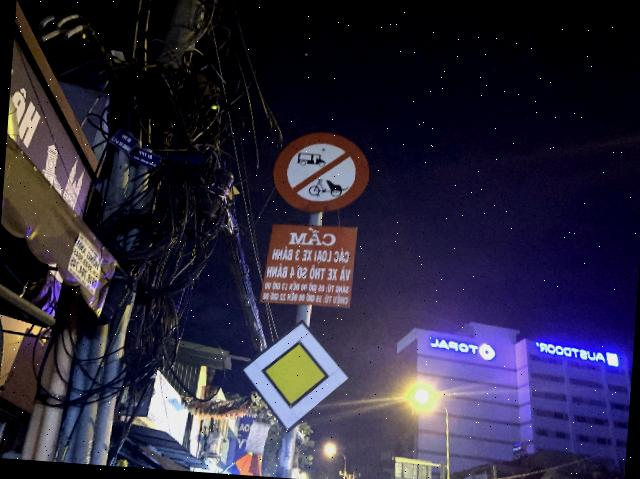bat-dau-duong-uu-tien: (236, 314, 354, 437)
cam-xe-3-banh-xe-tho-so-4-banh: (270, 128, 372, 216)
